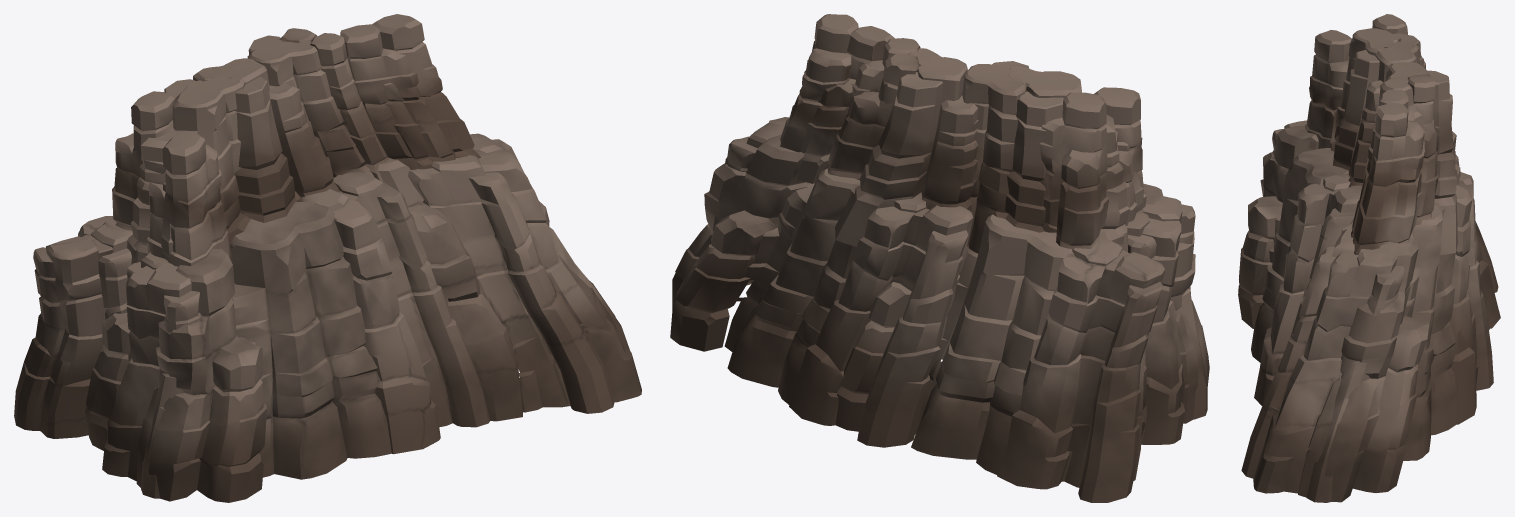
File: Lava-LargeRock-004.fbx
3 renders of one model, left to right at view 1: azimuth 30°, elevation 25°; view 2: azimuth 150°, elevation 25°; view 3: azimuth 270°, elevation 25°, orthographic. The views are drawn at different scales.
Parts seen in each view (by area): view 1: Lava-LargeRock-004; view 2: Lava-LargeRock-004; view 3: Lava-LargeRock-004.
Boxes of the visible parts, left/top/right/bottom form: Lava-LargeRock-004: left=14, top=14, right=641, bottom=502; Lava-LargeRock-004: left=670, top=14, right=1209, bottom=502; Lava-LargeRock-004: left=1238, top=14, right=1500, bottom=502.
Bounding box in the file's own units: 3062 × 1964 × 1498.
